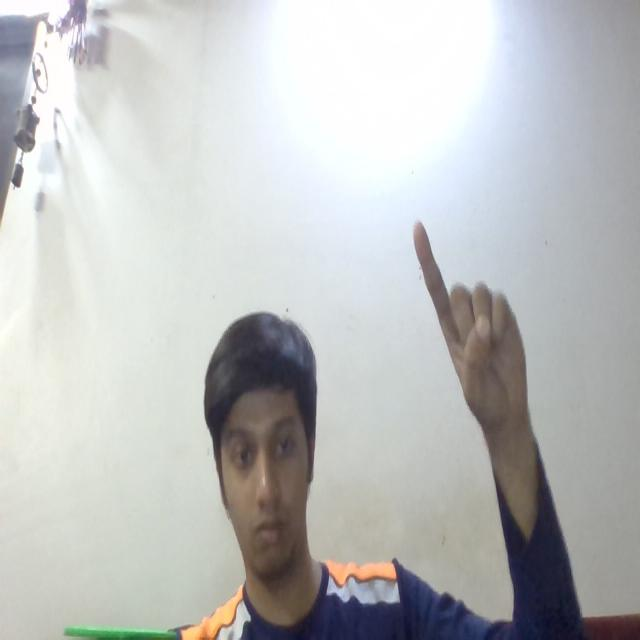Z: (386, 182, 552, 432)
